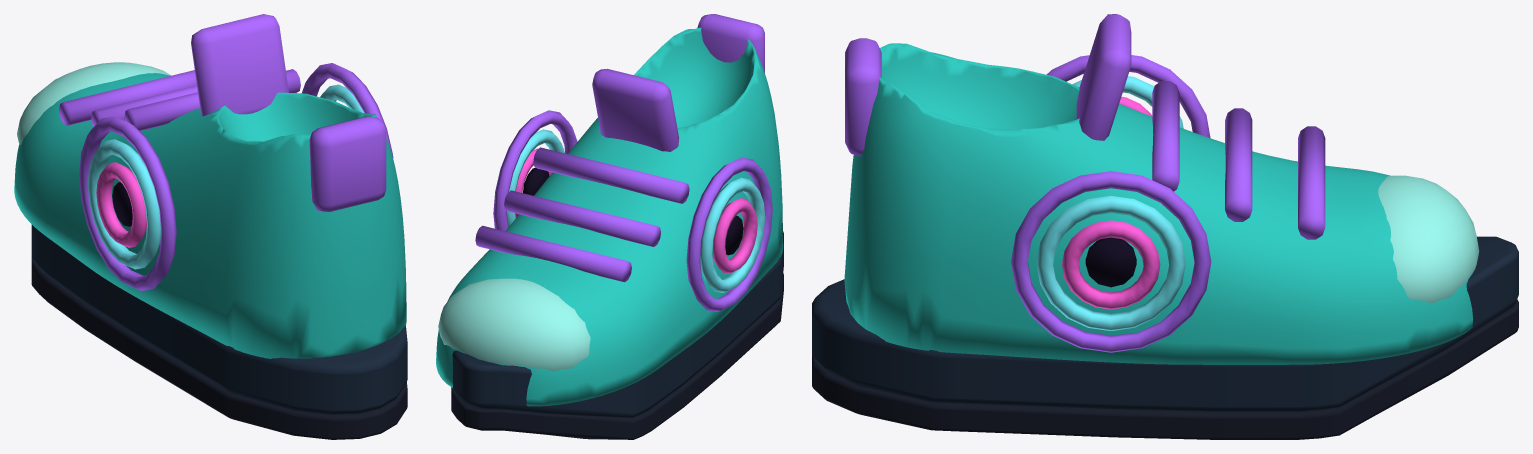
File: shoe_wormholewalkers.fbx
3 renders of one model, left to right at view 1: azimuth 30°, elevation 25°; view 2: azimuth 150°, elevation 25°; view 3: azimuth 270°, elevation 25°, orthographic. The views are drawn at different scales.
Parts seen in each view (by area): view 1: shoe_wormholewalkers; view 2: shoe_wormholewalkers; view 3: shoe_wormholewalkers.
Part boxes in pixels (left/top/right/bottom): shoe_wormholewalkers: left=14, top=14, right=407, bottom=439; shoe_wormholewalkers: left=436, top=14, right=783, bottom=439; shoe_wormholewalkers: left=812, top=14, right=1518, bottom=439.
Bounding box in the file's own units: 1.72 × 2.13 × 3.88.
1 material, 1 textured.
